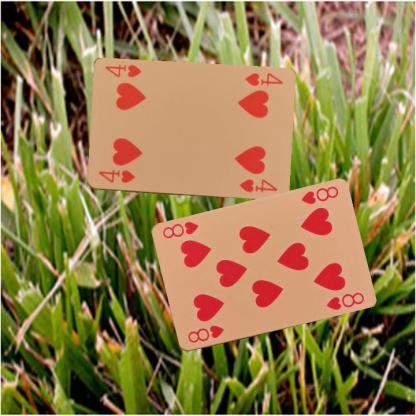4h: (242, 70, 284, 88), (96, 168, 136, 184)
8h: (298, 184, 340, 206), (185, 322, 225, 344)
